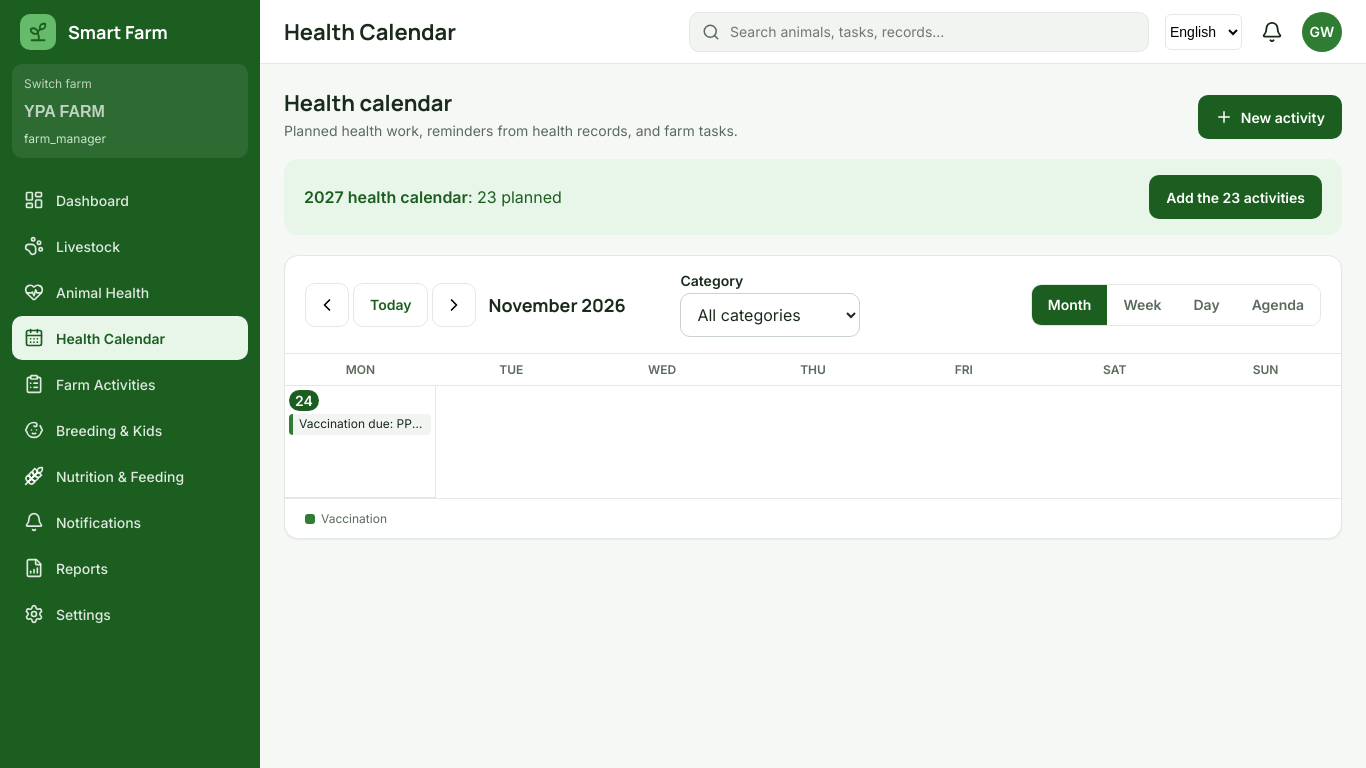
Test case: health calendar › shows activities in the month grid and opens the detail
The width and height of the screenshot is (1366, 768).
Click the button with aria-label "Vaccination due: PPR vaccine – YPA-001, pending": (360, 424) x1=289 y1=414 x2=431 y2=435
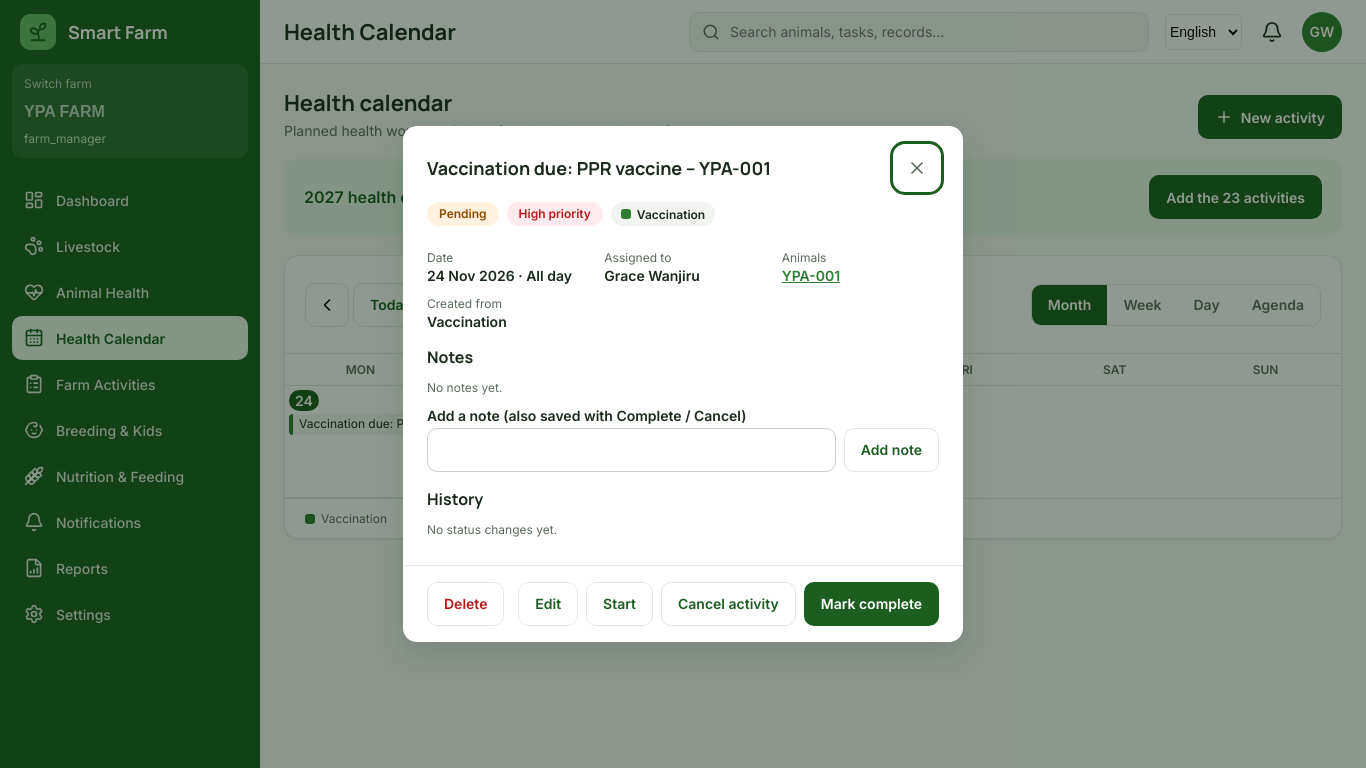
Expected: the text "Grace Wanjiru" is shown, x1=604 y1=267 x2=700 y2=284
Expected: the button "Mark complete" is shown, x1=804 y1=582 x2=939 y2=626
